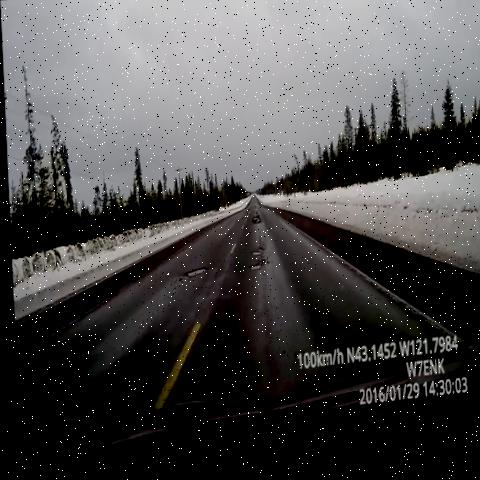pothole: (180, 264, 206, 293), (242, 267, 264, 286), (244, 216, 262, 238), (247, 253, 259, 265)
